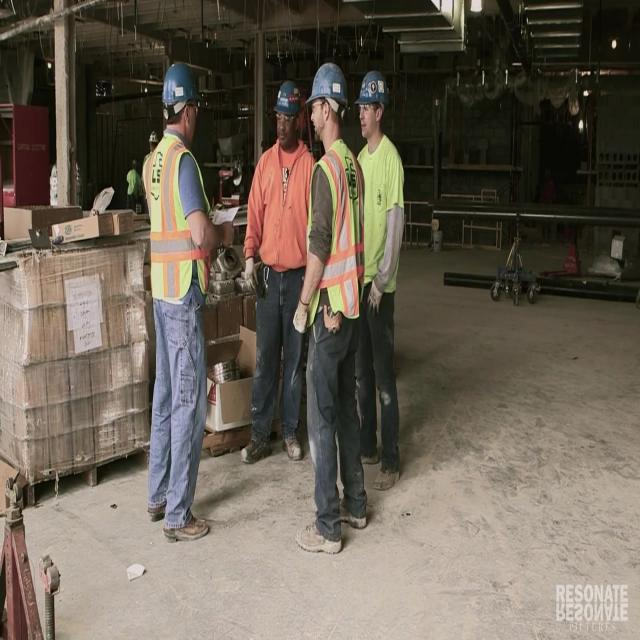reflective_jacket: (136, 132, 220, 314), (300, 140, 373, 334), (351, 134, 412, 319)
safety_helmet: (152, 53, 207, 122), (302, 54, 351, 120), (353, 60, 394, 115), (266, 72, 305, 126)
